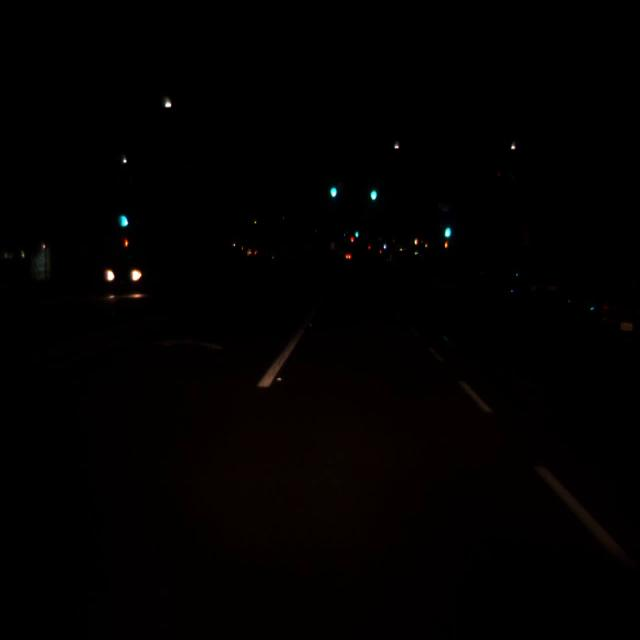go: (442, 214, 452, 240), (120, 202, 128, 230), (328, 178, 338, 198), (368, 182, 378, 202), (355, 228, 359, 238), (382, 242, 386, 250)
go traffic light: (442, 214, 452, 240), (120, 202, 128, 230), (328, 178, 338, 198), (368, 182, 378, 202), (355, 228, 359, 238), (382, 242, 386, 250)
stop: (350, 236, 354, 247)
stop traffic light: (350, 236, 354, 247)
